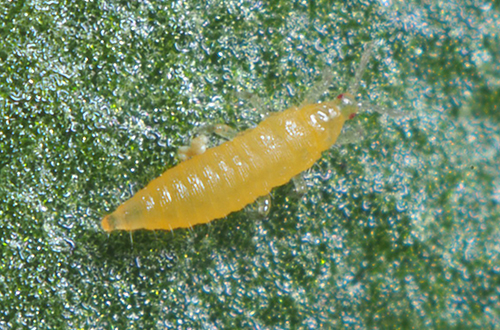Thrips: (92, 77, 389, 248)
